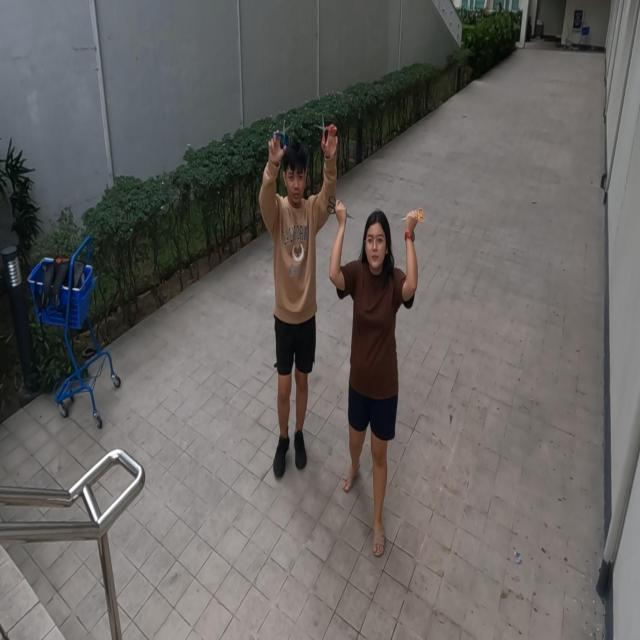scissor: (326, 192, 354, 224), (314, 113, 336, 152), (271, 118, 293, 154), (399, 206, 427, 225)
